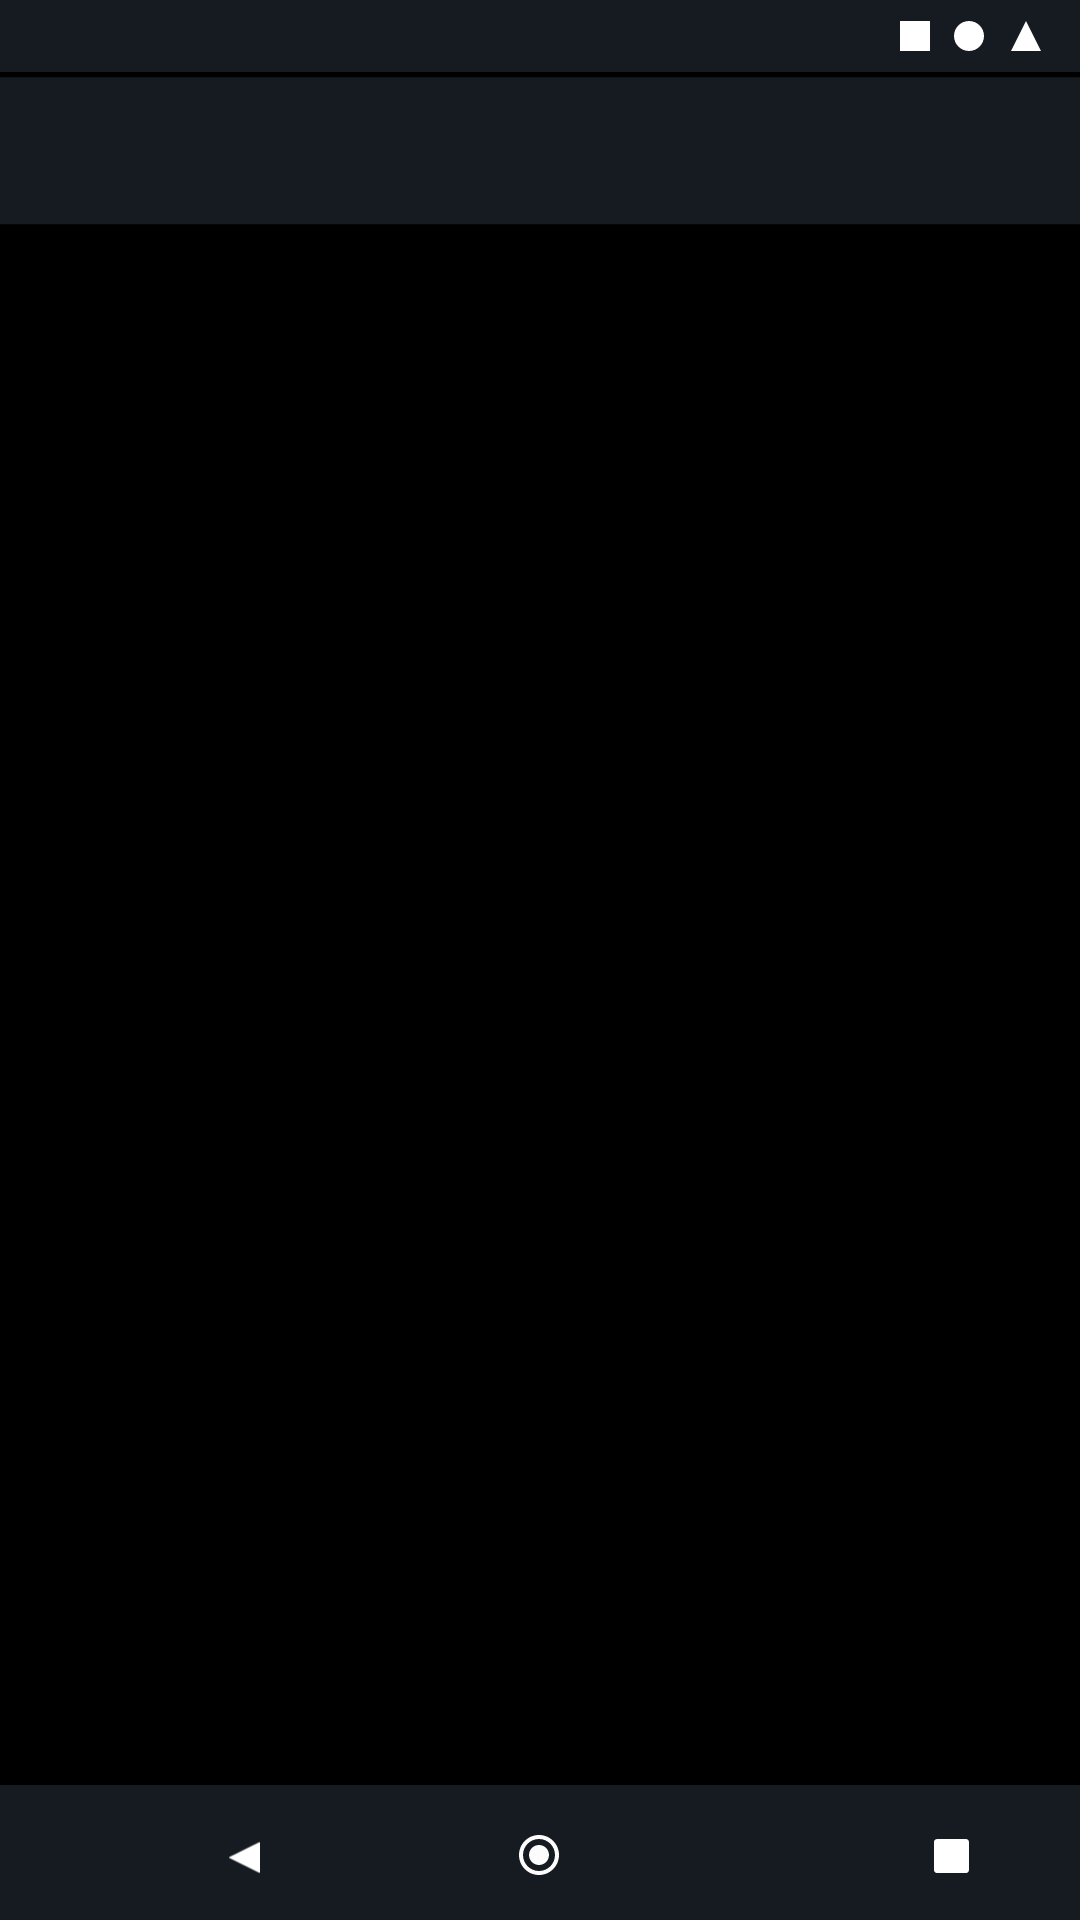

Icons on this 1080px x 1920px Android screen, each with its box as (x1, y1, x2, y2):
radio checked: (519, 1835, 559, 1875)
